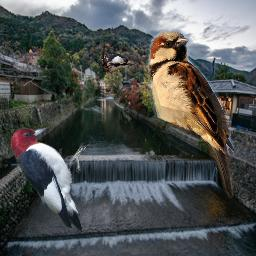Swallow: (147, 31, 234, 198)
Woodpecker: (10, 126, 91, 231), (102, 52, 136, 73)
